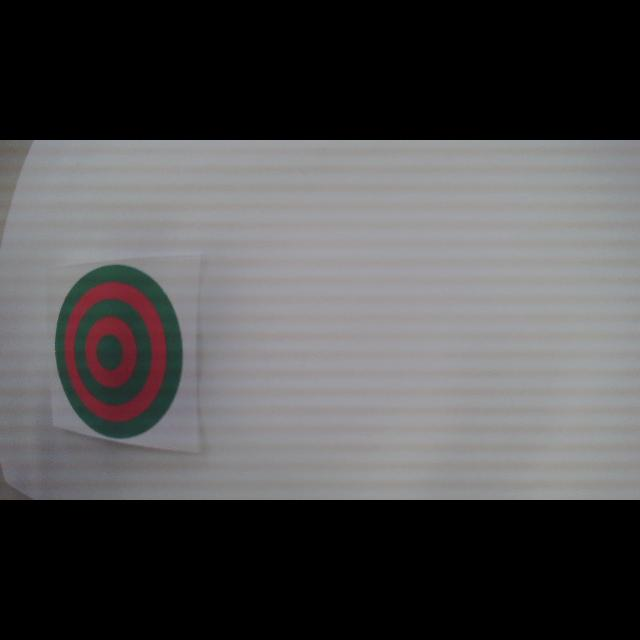COGNITIVE: (54, 264, 184, 442)
